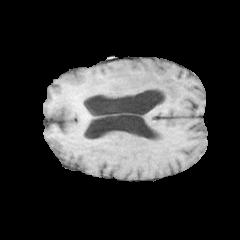glioma: (55, 65, 186, 118)
